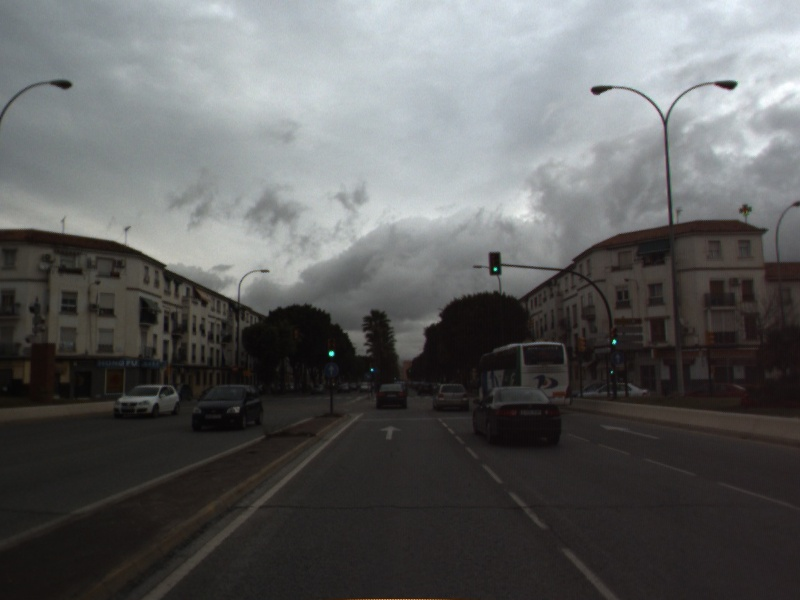STRAIGHT: (597, 422, 662, 441), (378, 423, 404, 442)
